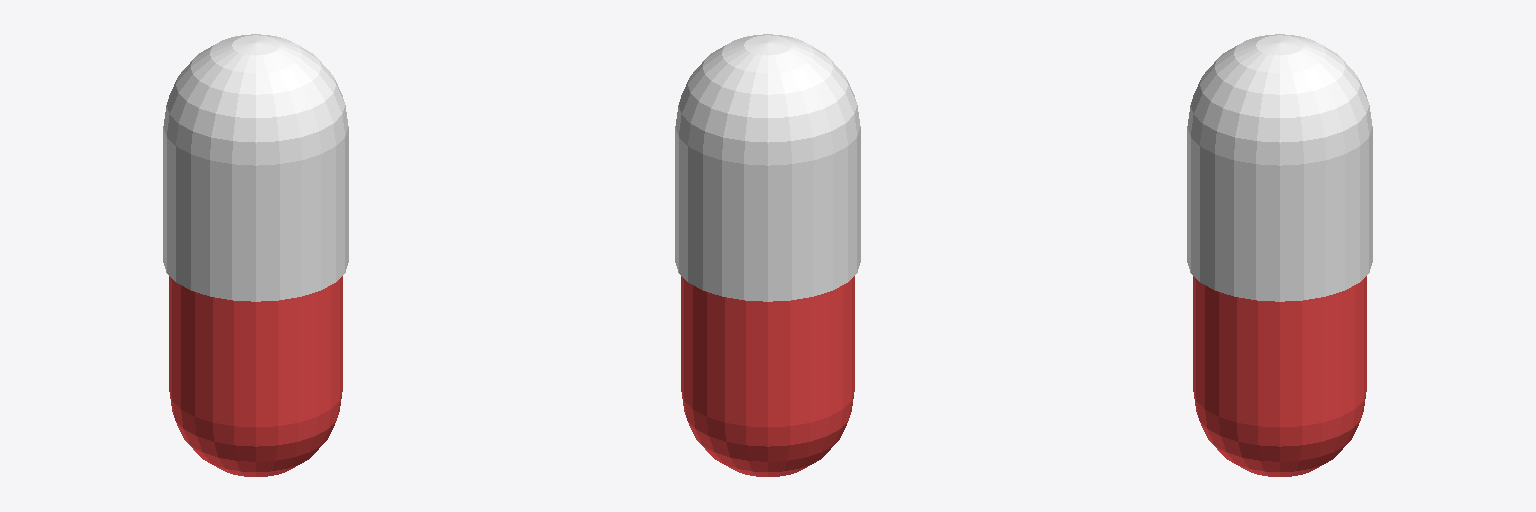
File: pill3.obj
The picture shows the model from 3 angles: view 1: azimuth 30°, elevation 25°; view 2: azimuth 150°, elevation 25°; view 3: azimuth 270°, elevation 25°; orthographic projection.
Parts seen in each view (by area): view 1: Mesh1 Model; view 2: Mesh1 Model; view 3: Mesh1 Model.
Boxes of the visible parts, x1,y1,x2,y2 form: Mesh1 Model: [163, 34, 348, 476]; Mesh1 Model: [675, 34, 860, 476]; Mesh1 Model: [1187, 34, 1372, 476].
Bounding box in the file's own units: 12.52 × 31.85 × 12.52.